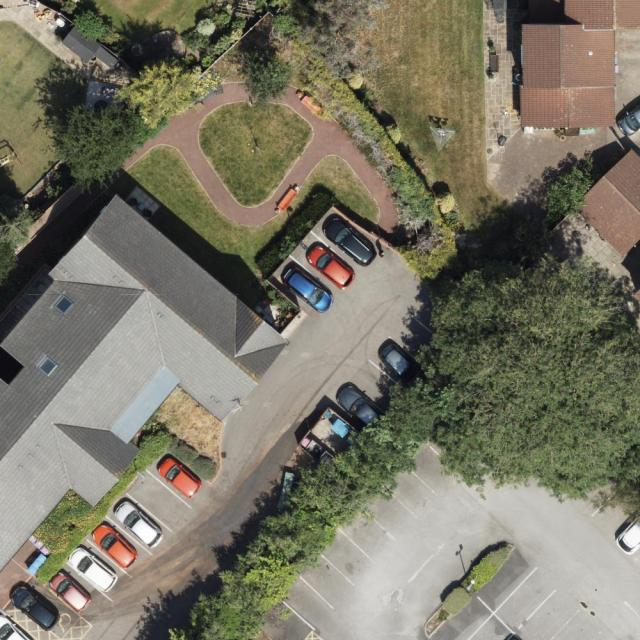roof: (0, 194, 288, 575), (519, 0, 640, 129), (573, 148, 640, 255)
skylight: (34, 356, 60, 377), (51, 294, 75, 313)
